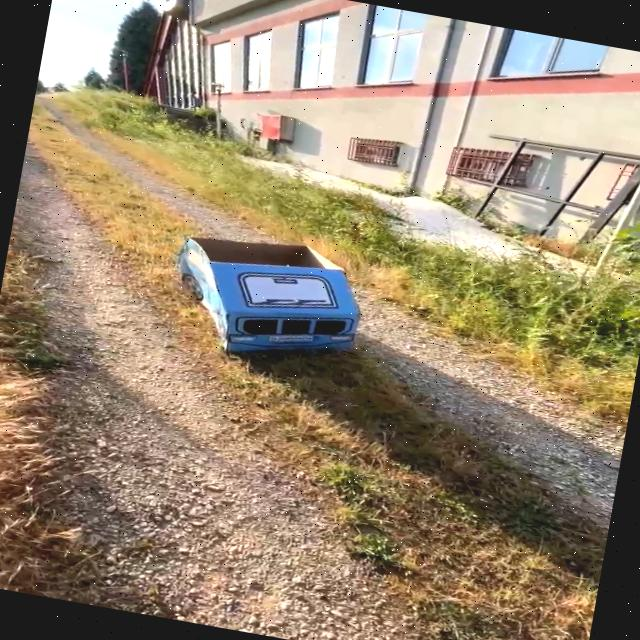blue_car: (133, 203, 406, 397)
